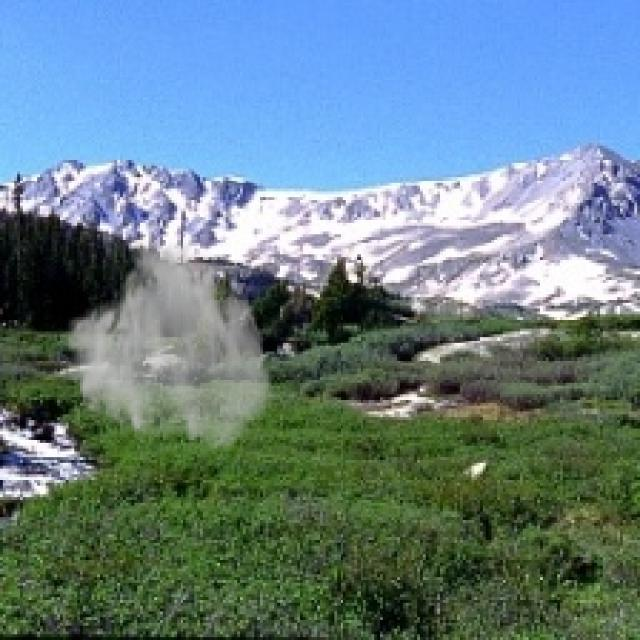Smoke: (63, 232, 274, 454)
